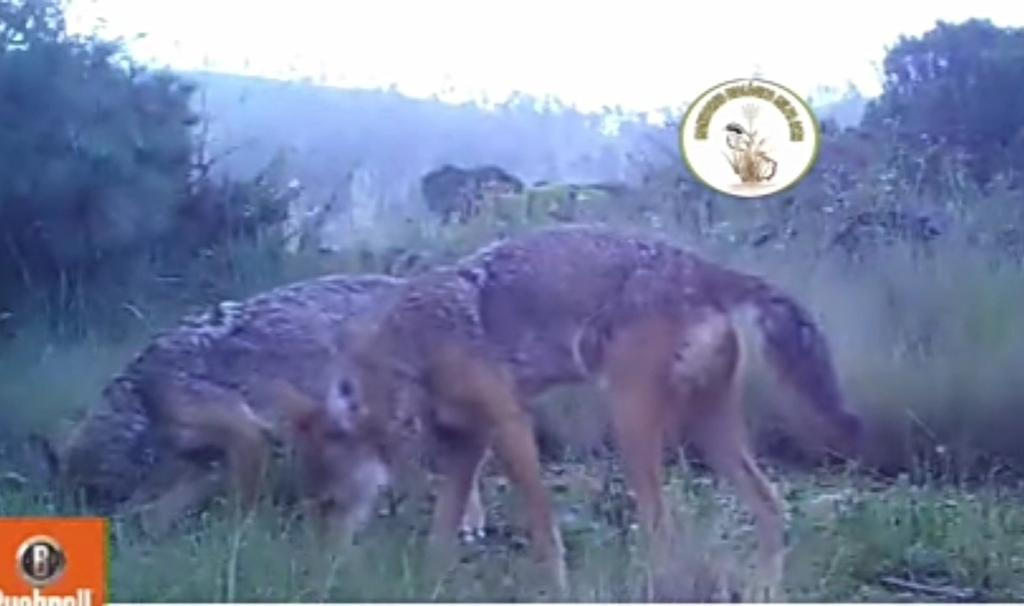Coyote: (271, 222, 870, 604), (25, 266, 415, 529)
